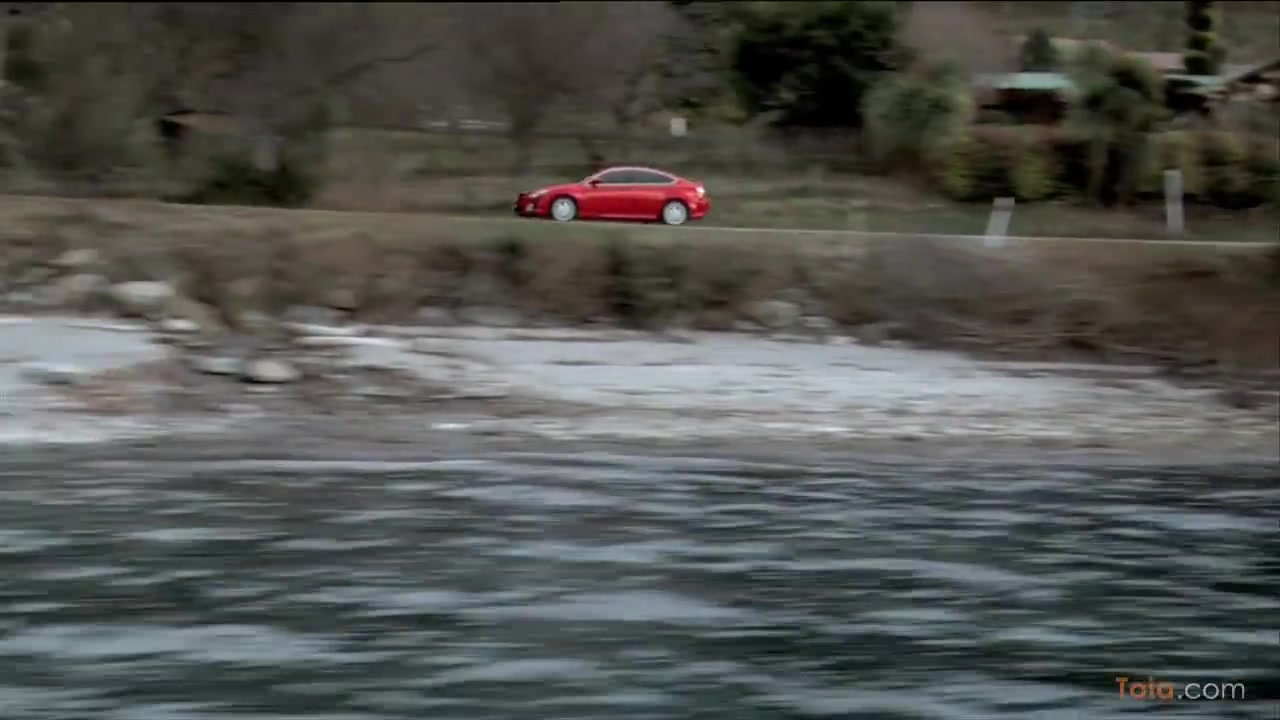car: (513, 163, 713, 228)
